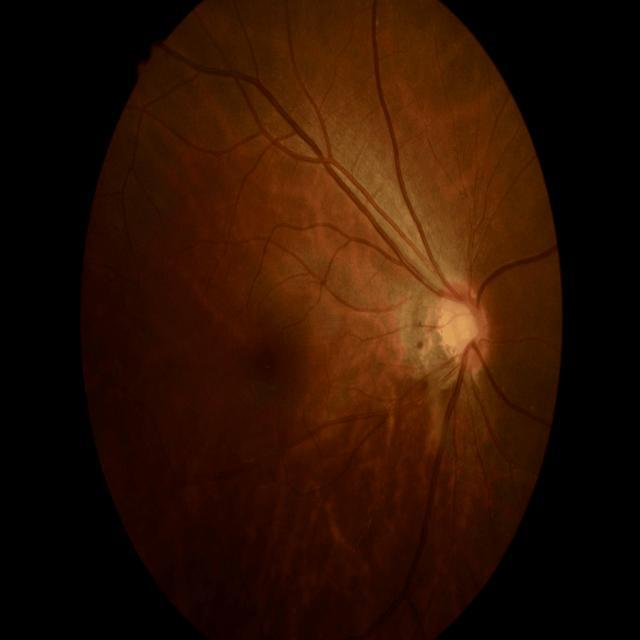cup: (444, 297, 477, 349)
disk: (439, 281, 490, 374)
